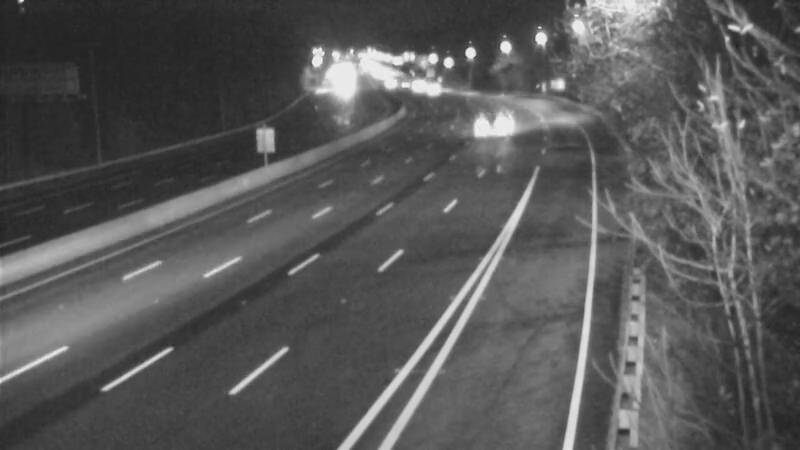vehicle: (405, 66, 455, 116), (459, 98, 509, 148)
